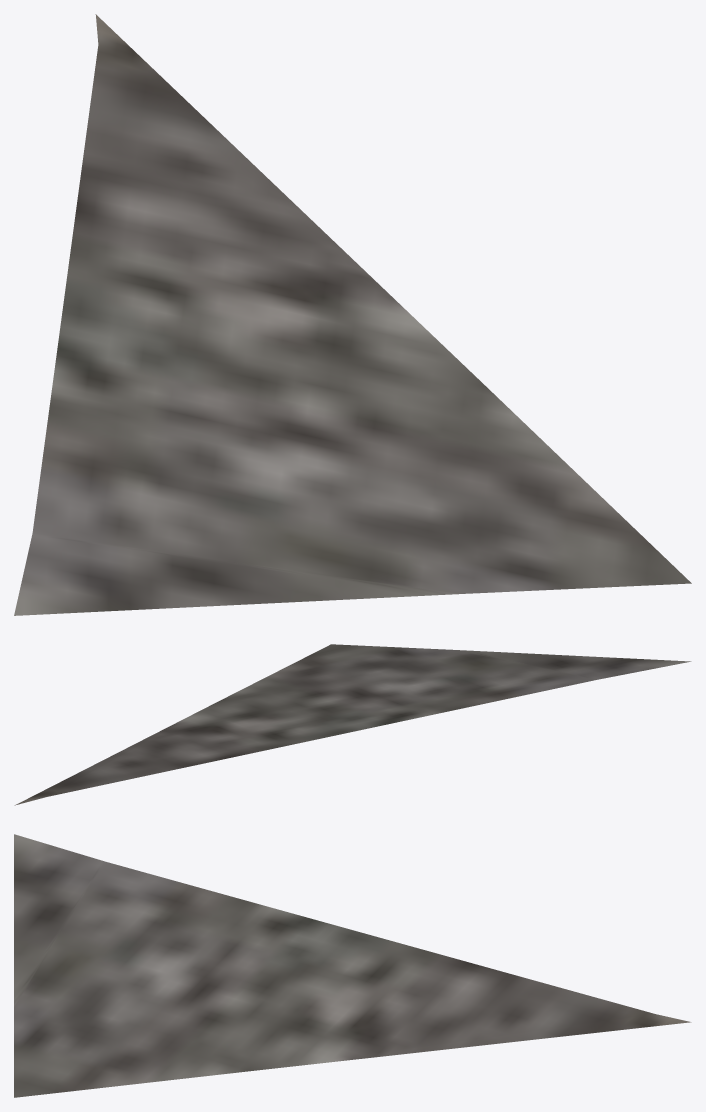
3 renders of one model, top to bottom at view 1: azimuth 30°, elevation 25°; view 2: azimuth 150°, elevation 25°; view 3: azimuth 270°, elevation 25°, orthographic. The views are drawn at different scales.
Size of the model in its own units: 0.1461 by 0.0274 by 0.2225.
1 material, 1 textured.
